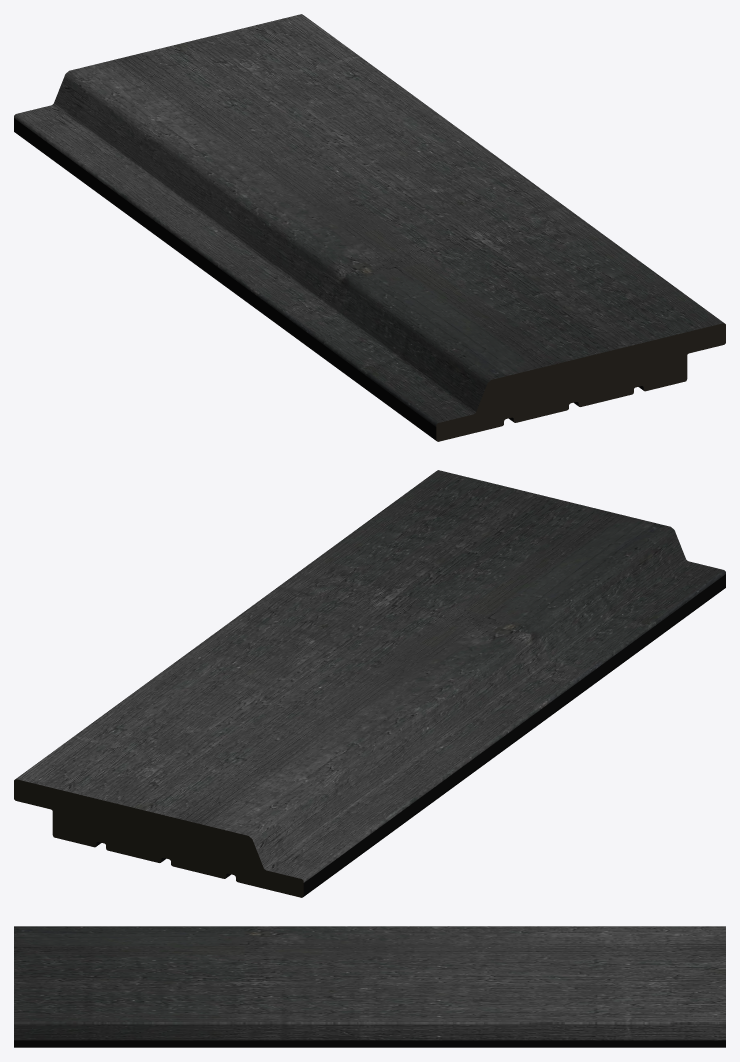
Rendered from spruce-facade-half-tongue-carbon-light.glb.
3 renders of one model, top to bottom at view 1: azimuth 30°, elevation 25°; view 2: azimuth 150°, elevation 25°; view 3: azimuth 270°, elevation 25°, orthographic. The views are drawn at different scales.
Visible parts, largest first — view 1: Pusė_Špunto; view 2: Pusė_Špunto; view 3: Pusė_Špunto.
Boxes of the visible parts, <box> form: Pusė_Špunto: <box>14,14,725,441</box>; Pusė_Špunto: <box>14,470,725,897</box>; Pusė_Špunto: <box>14,926,725,1047</box>.
Bounding box in the file's own units: 0.0723 × 0.0117 × 0.1826.
Materials: 3 (1 with a texture image).
